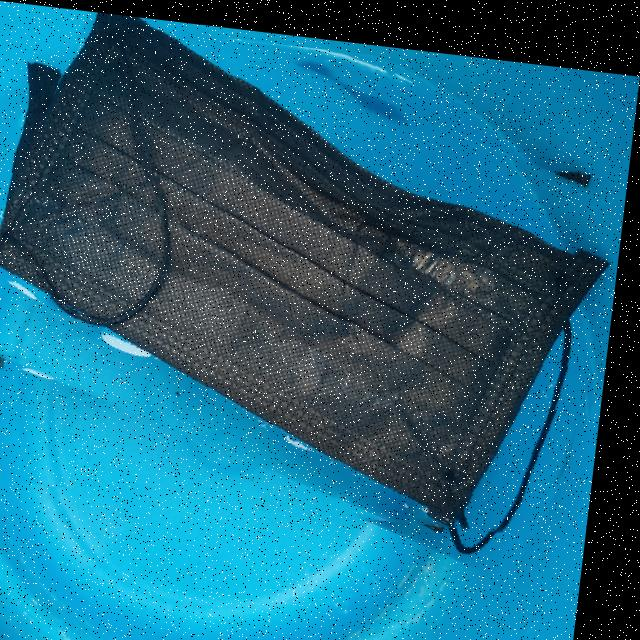litter: (0, 11, 639, 534)
